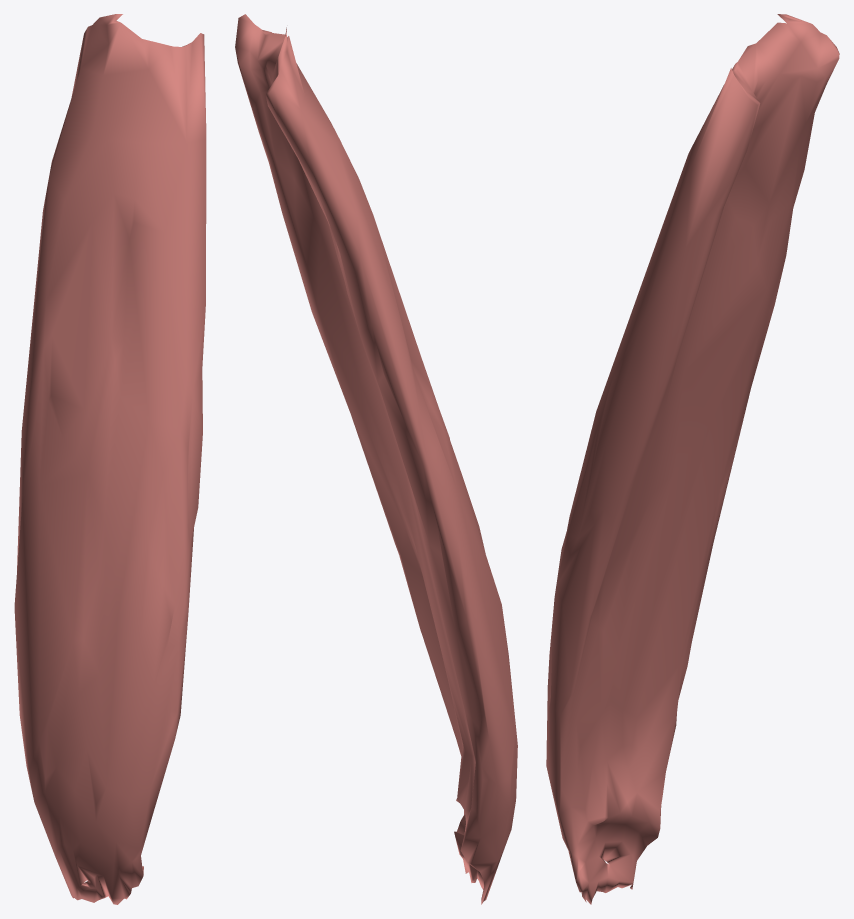
The picture shows the model from 3 angles, left to right: view 1: azimuth 30°, elevation 25°; view 2: azimuth 150°, elevation 25°; view 3: azimuth 270°, elevation 25°; orthographic projection. The views are drawn at different scales.
Visible parts, largest first — view 1: ZA_1ecd1a1e01d30e62; view 2: ZA_1ecd1a1e01d30e62; view 3: ZA_1ecd1a1e01d30e62.
Part boxes in pixels (x1,y1,x2,y2): ZA_1ecd1a1e01d30e62: (14,14,206,904); ZA_1ecd1a1e01d30e62: (235,14,517,904); ZA_1ecd1a1e01d30e62: (546,14,839,904).
Bounding box in the file's own units: 0.0182 × 0.067 × 0.019.
